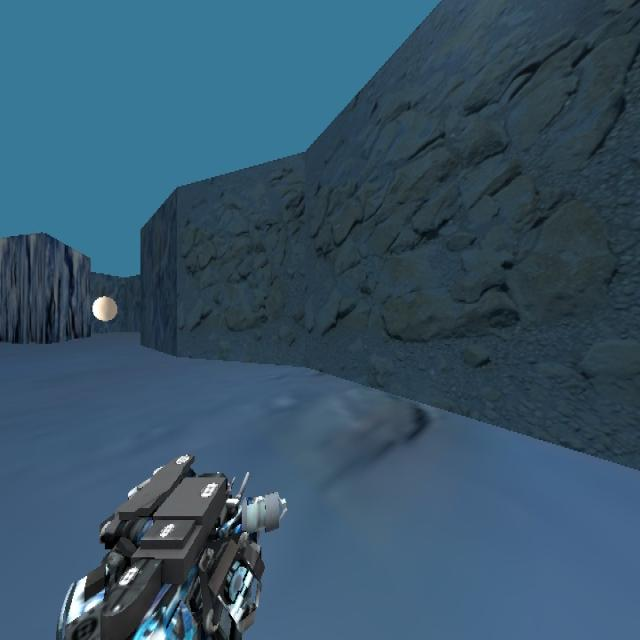Mushroom: (91, 295, 117, 321)
